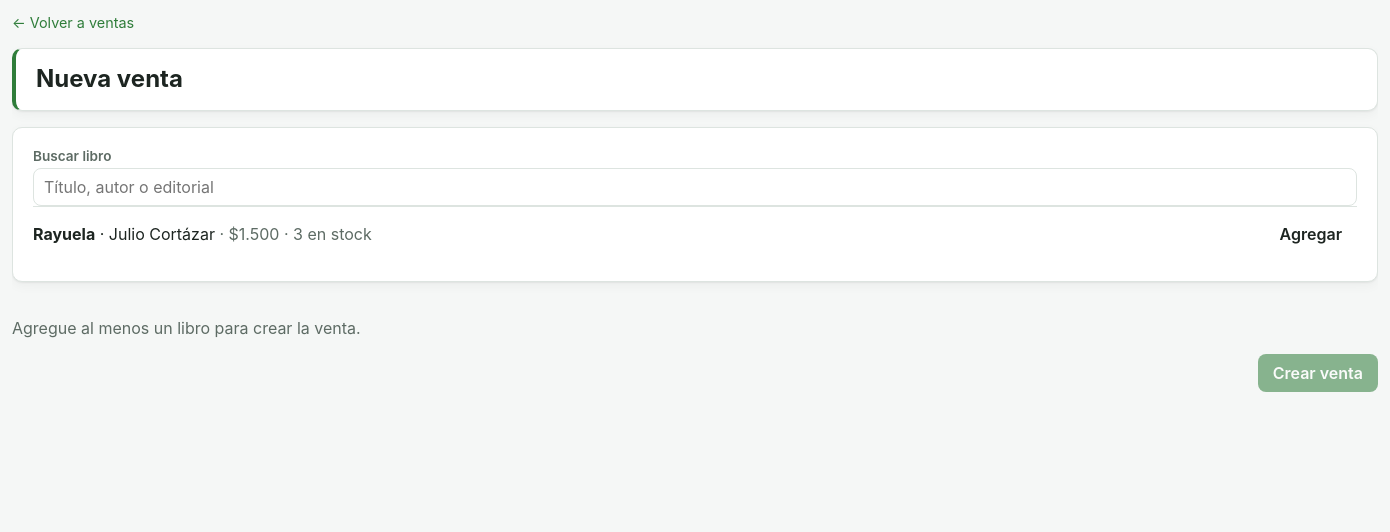
Test: SaleCreatePage › does not repeat a book and removes lines
Click the button with aria-label "Agregar Rayuela".
click(1311, 234)  # box [1265,215,1357,253]
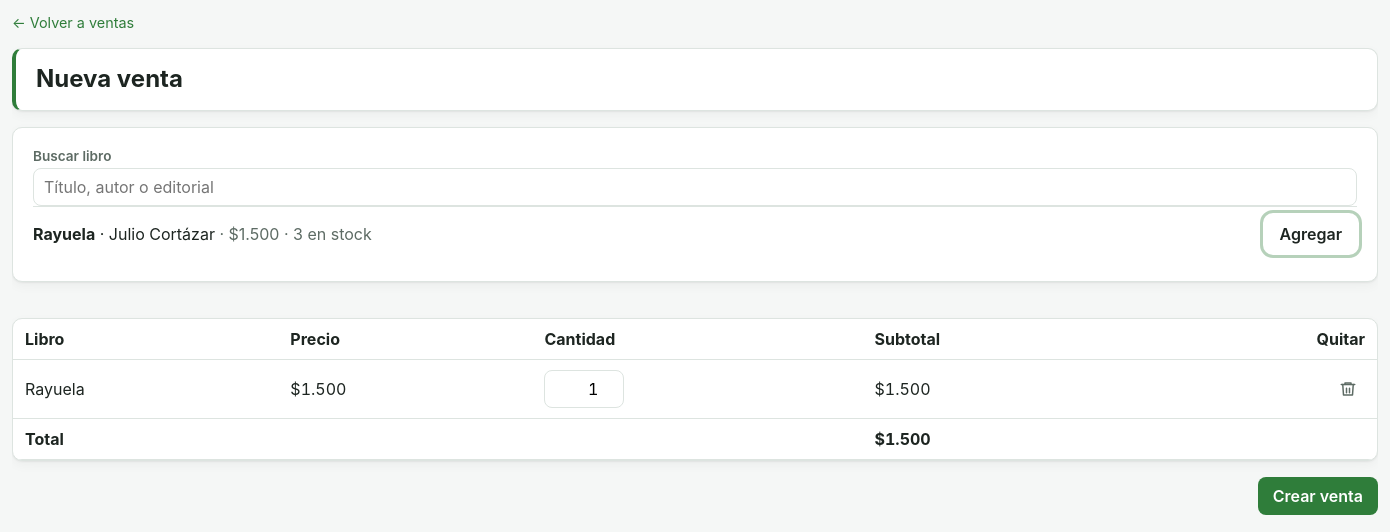
Click the button with aria-label "Agregar Rayuela".
click(1311, 234)  # box [1265,215,1357,253]
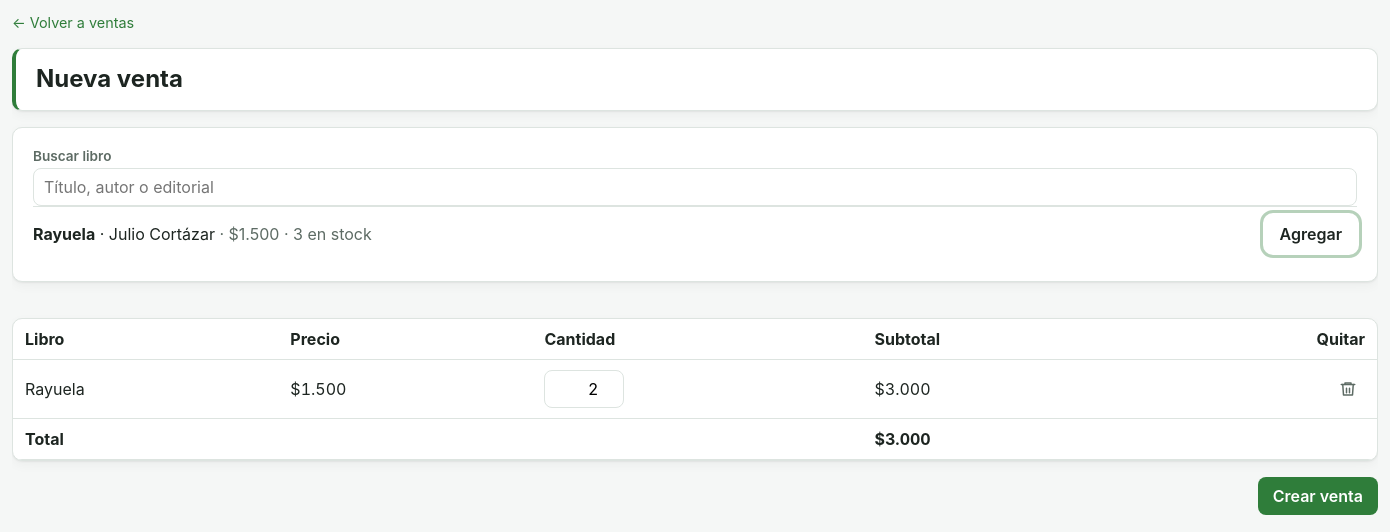
Result: the number of number fields named "Cantidad de Rayuela" is 1 at [544,370,624,408]
Result: the number field named "Cantidad de Rayuela" holds "2" at [544,370,624,408]
Click the button named "Quitar Rayuela".
click(1348, 389)  # box [1331,372,1365,406]
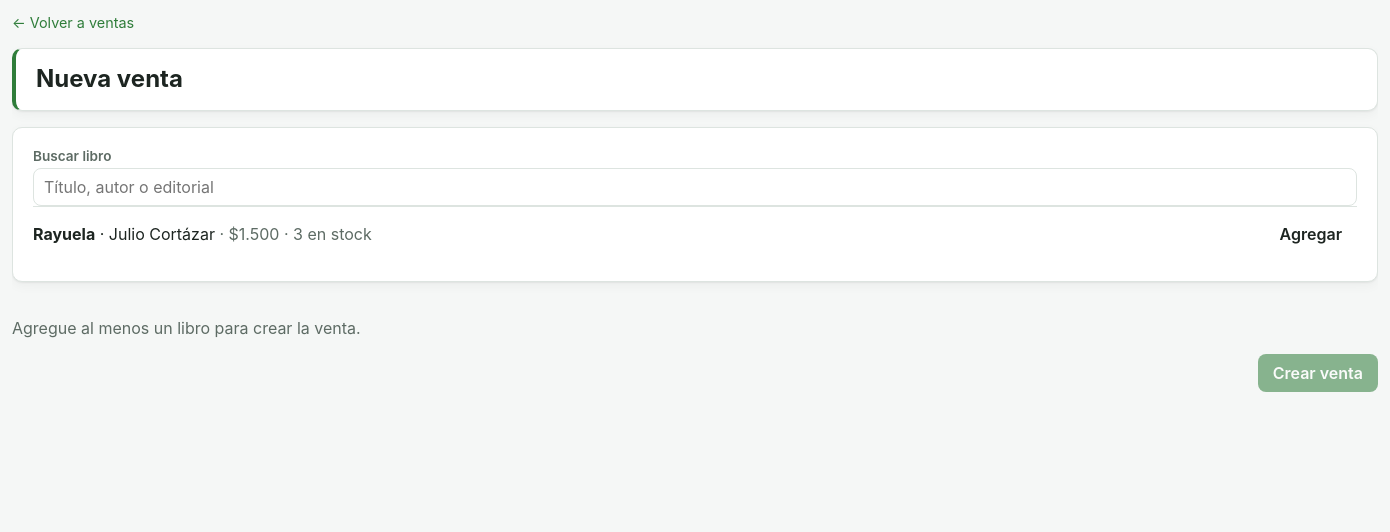
Result: the button "Crear venta" is disabled at [1258,354,1378,392]
